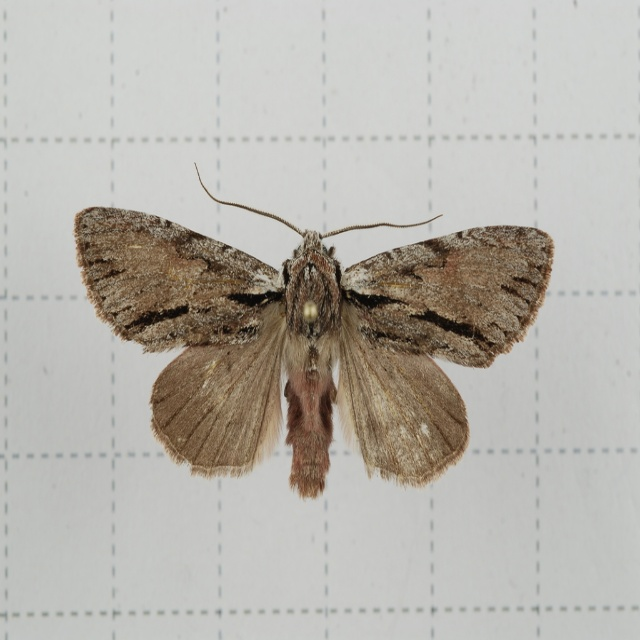Moths and butterflies: (70, 159, 556, 502)
